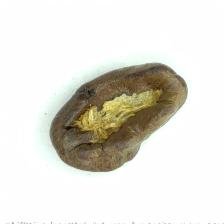NG: (69, 69, 177, 152)
